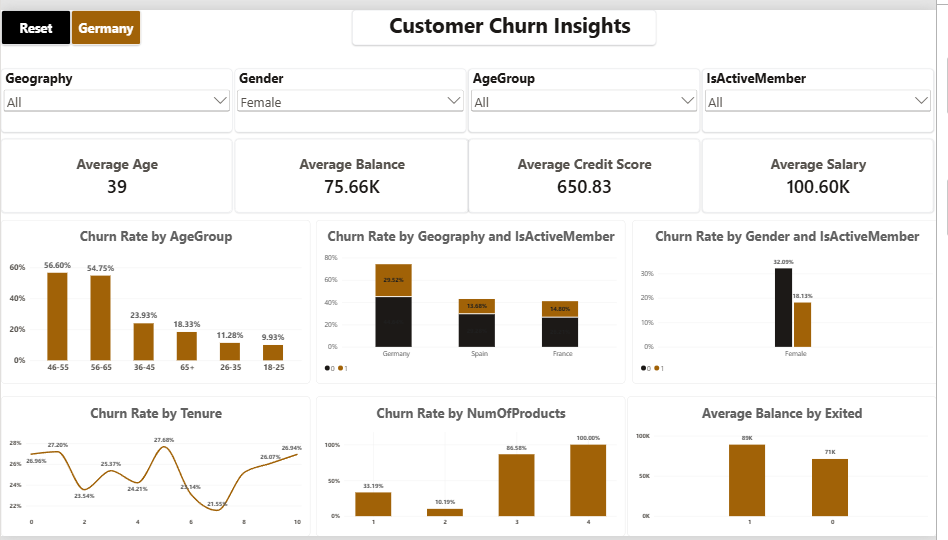

This screenshot's page, from the dashboard's own definition file:
{"tool":"powerbi","page":{"name":"Detailed Churn Analysis","canvas":[1920,1080],"ordinal":1},"visuals":[{"type":"textbox","box":[720,0,624,72],"z":0},{"type":"slicer","fields":{"Values":["FactCustomer.Geography"]},"box":[0,120,475,130],"z":1000},{"type":"slicer","fields":{"Values":["FactCustomer.Gender"]},"box":[480,120,475,130],"z":2000},{"type":"slicer","fields":{"Values":["FactCustomer.AgeGroup"]},"box":[960,120,475,130],"z":3000},{"type":"slicer","fields":{"Values":["FactCustomer.IsActiveMember"]},"box":[1440,120,475,130],"z":4000},{"type":"cardVisual","fields":{"Data":["FactCustomer.Average Age"]},"box":[0,264,475,152],"z":5000},{"type":"cardVisual","fields":{"Data":["FactCustomer.Average Balance"]},"box":[480,264,480,152],"z":6000},{"type":"cardVisual","fields":{"Data":["FactCustomer.Average Credit Score"]},"box":[960,264,475,152],"z":7000},{"type":"cardVisual","fields":{"Data":["FactCustomer.Average Salary"]},"box":[1440,264,475,152],"z":8000},{"type":"clusteredColumnChart","fields":{"Category":["FactCustomer.AgeGroup"],"Y":["FactCustomer.Churn Rate"]},"box":[0,432,635,336],"z":9000},{"type":"columnChart","fields":{"Category":["DimGeography.Geography"],"Y":["FactCustomer.Churn Rate"],"Series":["FactCustomer.IsActiveMember"]},"box":[648,432,635,336],"z":10000},{"type":"clusteredColumnChart","fields":{"Category":["FactCustomer.Gender"],"Series":["FactCustomer.IsActiveMember"],"Y":["FactCustomer.Churn Rate"]},"box":[1296,432,635,336],"z":11000},{"type":"lineChart","fields":{"Y":["FactCustomer.Churn Rate"],"Category":["FactCustomer.Tenure"]},"box":[0,792,635,288],"z":12000},{"type":"clusteredColumnChart","fields":{"Y":["FactCustomer.Churn Rate"],"Category":["FactCustomer.NumOfProducts"]},"box":[648,792,635,288],"z":13000},{"type":"clusteredColumnChart","fields":{"Category":["FactCustomer.Exited"],"Y":["FactCustomer.Average Balance"]},"box":[1285,792,635,288],"z":14000},{"type":"actionButton","box":[0,0,144,72],"z":14001},{"type":"actionButton","box":[144,0,144,72],"z":14002}]}

Visuals, with their boxes in screenshot pixels (x1, y1, x2, y2), scaled from the page's 1920x1080 canvas onto the 948x540 screenshot:
textbox: Rect(356, 0, 664, 36)
slicer - FactCustomer.Geography: Rect(0, 60, 235, 125)
slicer - FactCustomer.Gender: Rect(237, 60, 472, 125)
slicer - FactCustomer.AgeGroup: Rect(474, 60, 709, 125)
slicer - FactCustomer.IsActiveMember: Rect(711, 60, 946, 125)
cardVisual - FactCustomer.Average Age: Rect(0, 132, 235, 208)
cardVisual - FactCustomer.Average Balance: Rect(237, 132, 474, 208)
cardVisual - FactCustomer.Average Credit Score: Rect(474, 132, 709, 208)
cardVisual - FactCustomer.Average Salary: Rect(711, 132, 946, 208)
clusteredColumnChart - FactCustomer.AgeGroup x FactCustomer.Churn Rate: Rect(0, 216, 314, 384)
columnChart - DimGeography.Geography x FactCustomer.Churn Rate: Rect(320, 216, 633, 384)
clusteredColumnChart - FactCustomer.Gender x FactCustomer.IsActiveMember: Rect(640, 216, 947, 384)
lineChart - FactCustomer.Churn Rate x FactCustomer.Tenure: Rect(0, 396, 314, 539)
clusteredColumnChart - FactCustomer.Churn Rate x FactCustomer.NumOfProducts: Rect(320, 396, 633, 539)
clusteredColumnChart - FactCustomer.Exited x FactCustomer.Average Balance: Rect(634, 396, 947, 539)
actionButton: Rect(0, 0, 71, 36)
actionButton: Rect(71, 0, 142, 36)
